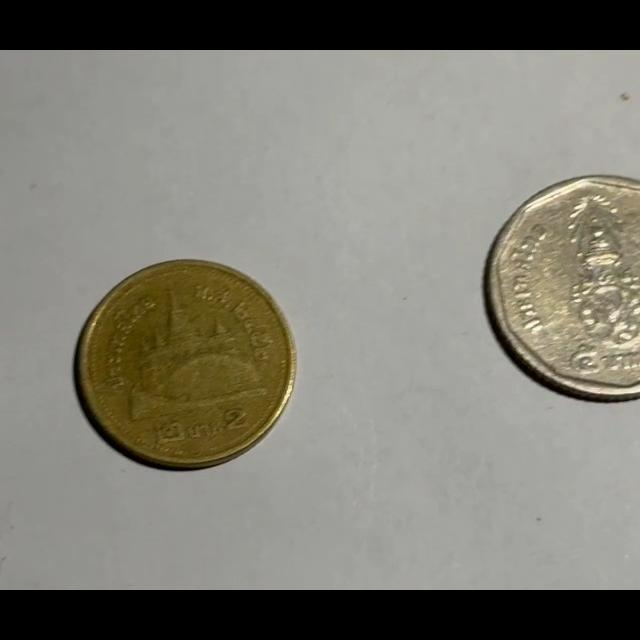2-baht: (75, 262, 292, 470)
5-baht: (467, 166, 640, 410)
